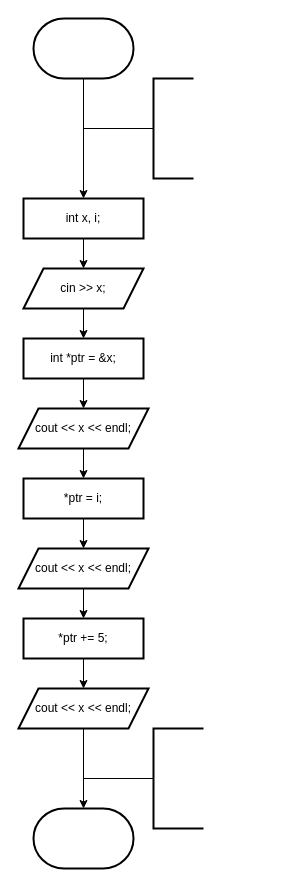
The diagram is 289 pixels wide and 886 high, and some of its shapes have lost their labels. The shapes that lost their labels are listed below. From the top down, each one's centre as x and y in pixels, then its label:
the point at 83,48: Начало
the point at 173,128: #include <iostream> using namespace std; int main(){
the point at 178,778: return 0; }
the point at 83,838: Конец
